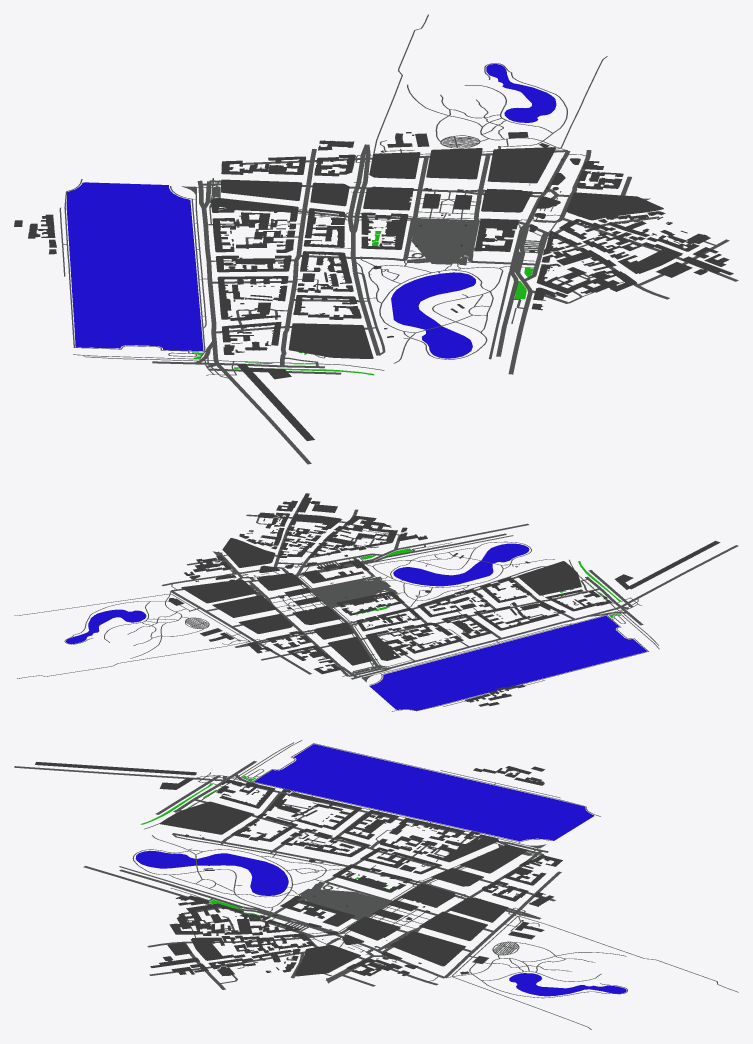
File: test_blosm.fbx
The picture shows the model from 3 angles, top to bottom: view 1: azimuth 30°, elevation 25°; view 2: azimuth 150°, elevation 25°; view 3: azimuth 270°, elevation 25°; orthographic projection. The views are drawn at different scales.
Parts seen in each view (by area): view 1: map_3.osm_buildings, map_3.osm_water, map_3.osm_paths_footway, map_3.osm_roads_tertiary, map_3.osm_roads_residential, map_3.osm_areas_pedestrian, map_3.osm_roads_service, map_3.osm_roads_pedestrian; view 2: map_3.osm_buildings, map_3.osm_water, map_3.osm_paths_footway, map_3.osm_roads_tertiary, map_3.osm_roads_residential, map_3.osm_areas_pedestrian, map_3.osm_roads_service, map_3.osm_roads_pedestrian, map_3.osm_vegetation; view 3: map_3.osm_buildings, map_3.osm_water, map_3.osm_paths_footway, map_3.osm_roads_tertiary, map_3.osm_roads_residential, map_3.osm_areas_pedestrian, map_3.osm_roads_service, map_3.osm_roads_pedestrian.
Boxes of the visible parts, box(x1,y1,x2,y2) form: map_3.osm_buildings: box(14, 132, 733, 440); map_3.osm_water: box(66, 64, 556, 358); map_3.osm_paths_footway: box(59, 14, 623, 375); map_3.osm_roads_tertiary: box(152, 144, 570, 374); map_3.osm_roads_residential: box(208, 149, 729, 464); map_3.osm_areas_pedestrian: box(181, 186, 650, 265); map_3.osm_roads_service: box(208, 146, 717, 366); map_3.osm_roads_pedestrian: box(533, 150, 738, 281); map_3.osm_buildings: box(168, 493, 720, 706); map_3.osm_water: box(66, 543, 647, 710); map_3.osm_paths_footway: box(14, 530, 659, 711); map_3.osm_roads_tertiary: box(170, 523, 643, 679); map_3.osm_roads_residential: box(187, 509, 738, 669); map_3.osm_areas_pedestrian: box(212, 551, 398, 682); map_3.osm_roads_service: box(189, 516, 587, 664); map_3.osm_roads_pedestrian: box(161, 498, 303, 596); map_3.osm_vegetation: box(353, 548, 621, 618); map_3.osm_buildings: box(35, 762, 562, 976); map_3.osm_water: box(135, 744, 626, 996); map_3.osm_paths_footway: box(132, 740, 738, 1029); map_3.osm_roads_tertiary: box(83, 761, 561, 978); map_3.osm_roads_residential: box(14, 766, 555, 989); map_3.osm_areas_pedestrian: box(292, 844, 546, 983); map_3.osm_roads_service: box(119, 804, 486, 983); map_3.osm_roads_pedestrian: box(149, 935, 438, 985).
Size of the model in its own units: 120328 by 1820 by 127135.
